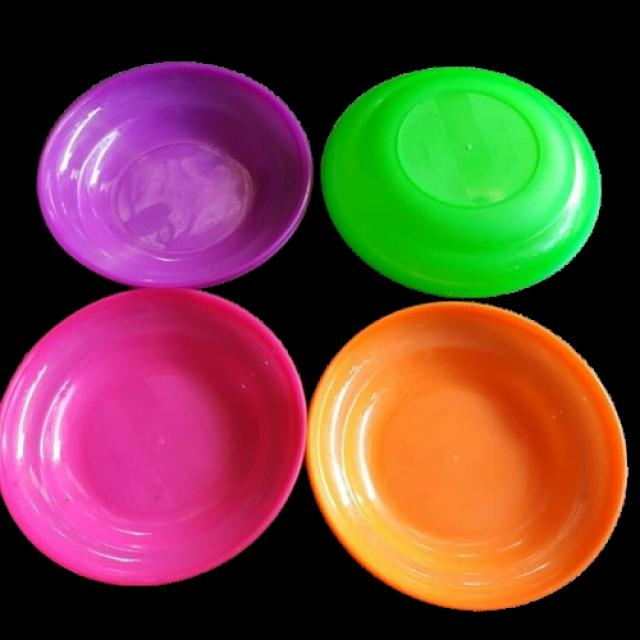Piring: (298, 298, 626, 626), (2, 262, 308, 598), (315, 29, 610, 302), (34, 45, 326, 293)
